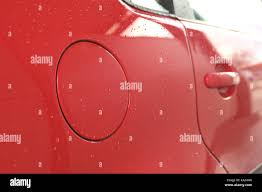closed: (49, 36, 135, 148)
